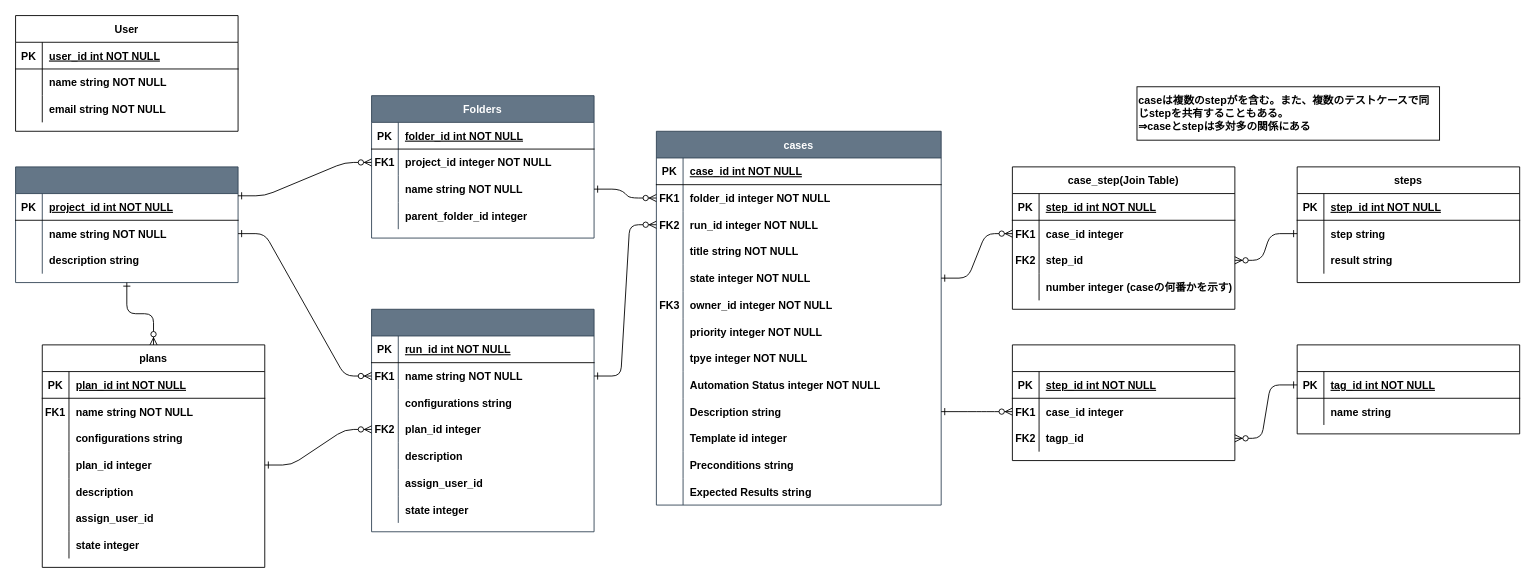
Image size: 1535x583. Some labels were removed from this diagram. The shapes that lost their labels are listed below. From the top down, each one's box as (x1, y1, x2, y2) in pixels, then its label:
(15, 166, 238, 283): Projects
(1011, 344, 1235, 461): case_tag(Join Table)
(1296, 344, 1520, 434): tags
(371, 308, 594, 532): Runs
